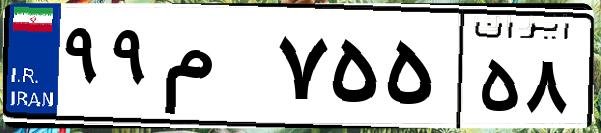5: (385, 28, 445, 110), (330, 28, 385, 110), (475, 38, 525, 113)
7: (270, 28, 330, 110)
8: (525, 38, 570, 115)
9: (57, 26, 110, 100), (110, 28, 158, 98)
م: (158, 20, 270, 120)
